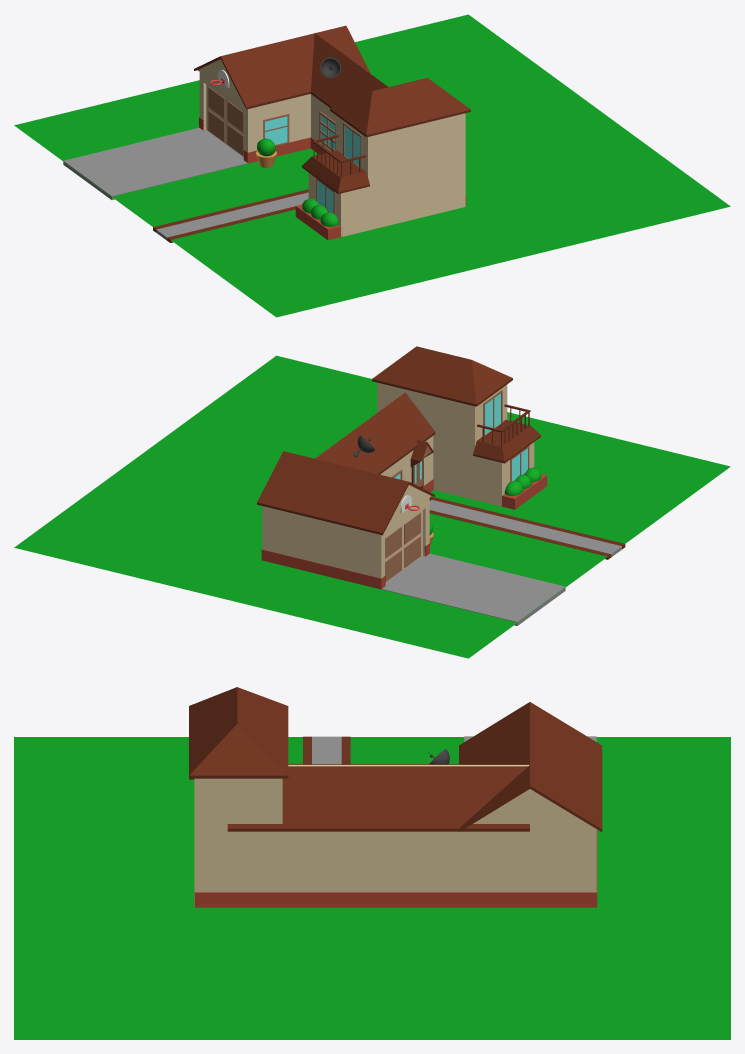
Rendered from RickAndMorty Hus.fbx.
3 views of the same model, one above another, from view 1: azimuth 30°, elevation 25°; view 2: azimuth 150°, elevation 25°; view 3: azimuth 270°, elevation 25° (orthographic). The views are drawn at different scales.
Parts seen in each view (by area): view 1: Plane, altan, Cube.030, skurtag rigtig, altan.002, hus, lillehus, skur, Cube.003, Cube, Cube.027, mursten (+5 smaller); view 2: Plane, skurtag rigtig, Cube.030, skur, altan, altan.002, Cube.003, hus, Cube.027, lillehus, Cube, mursten (+4 smaller); view 3: Plane, hus, Cube.003, skurtag rigtig, altan, altan.002, skur, mursten, skurtag, Cube.027.
Part boxes in pixels (x1,y1,x2,y2): Plane: (14,14,730,317); altan: (335,113,465,230); Cube.030: (63,127,247,199); skurtag rigtig: (194,25,370,109); altan.002: (330,77,470,136); hus: (311,94,465,219); lillehus: (308,173,396,236); skur: (199,72,310,152); Cube.003: (310,33,388,108); Cube: (302,150,369,193); Cube.027: (156,192,308,240); mursten: (199,117,466,206); Plane: (14,355,730,658); skurtag rigtig: (257,451,435,535); Cube.030: (381,553,565,625); skur: (262,496,429,578); altan: (377,382,507,499); altan.002: (372,346,512,406); Cube.003: (315,392,435,474); hus: (262,436,433,562); Cube.027: (429,500,621,556); lillehus: (451,442,534,506); Cube: (473,420,540,463); mursten: (261,479,433,589); Plane: (14,737,730,1039); hus: (194,765,596,892); Cube.003: (227,764,529,831); skurtag rigtig: (459,702,602,831); altan: (194,778,282,906); altan.002: (189,687,288,778); skur: (464,827,596,892); mursten: (194,830,597,907); skurtag: (473,789,597,829); Cube.027: (312,736,341,764).
Bounding box in the file's own units: 6503 × 1906 × 6500.
